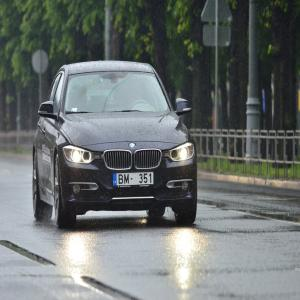Vehicle-registration-plate: (114, 173, 155, 188)
